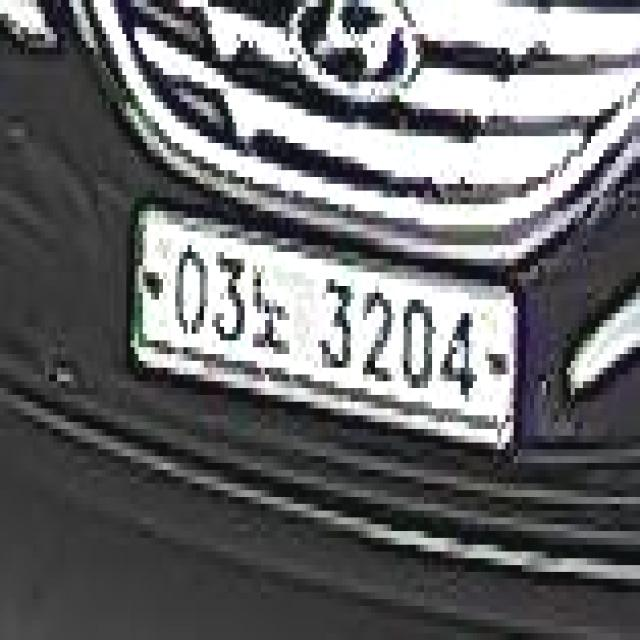illegal_plate: (128, 201, 519, 459)
